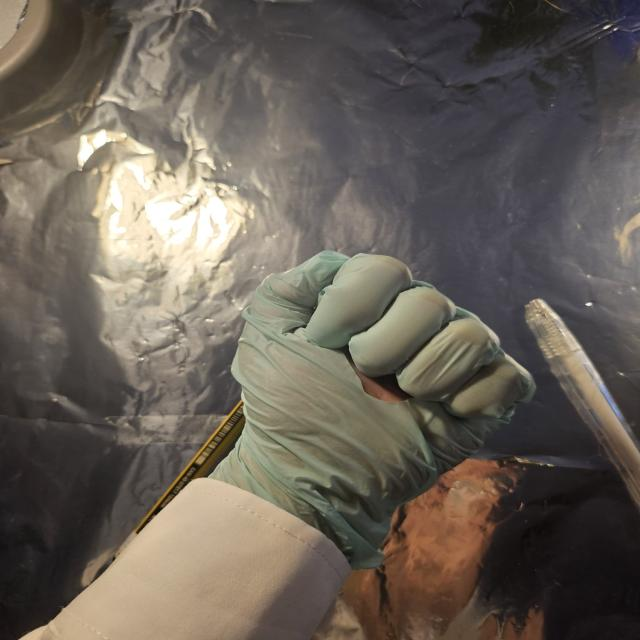gloves_damaged: (220, 240, 549, 549)
